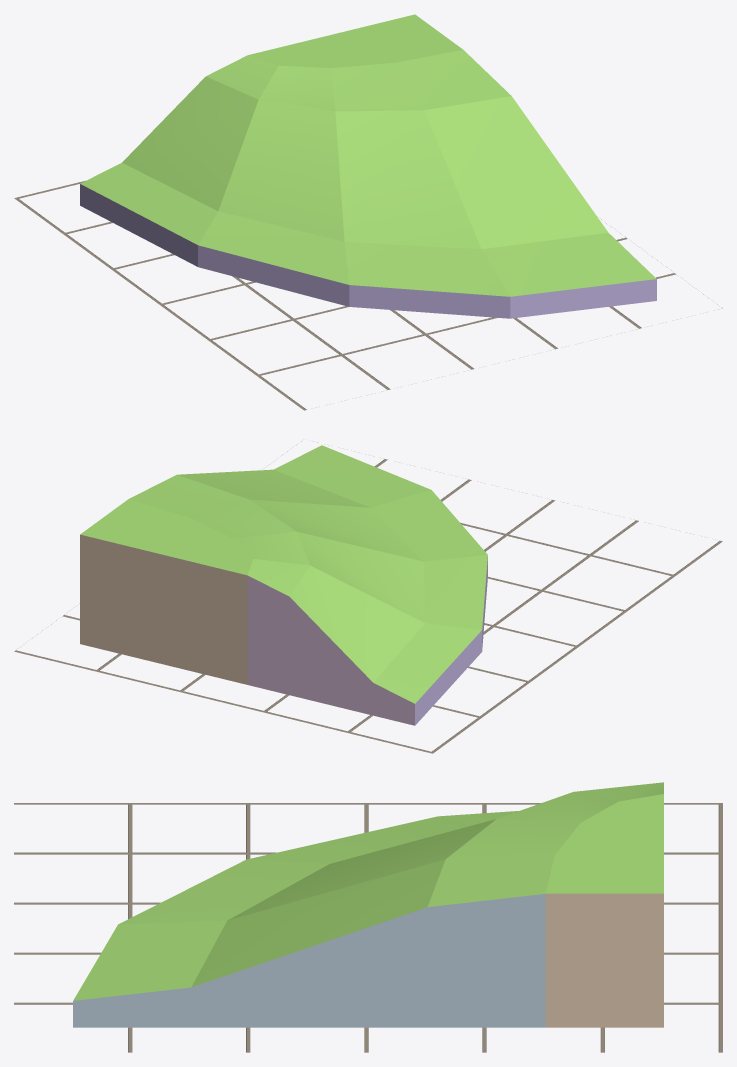
Rendered from Grass_Hill_Grade_Transition_Curve_Outer_4x5.glb.
The picture shows the model from 3 angles, top to bottom: view 1: azimuth 30°, elevation 25°; view 2: azimuth 150°, elevation 25°; view 3: azimuth 270°, elevation 25°; orthographic projection. The views are drawn at different scales.
Parts seen in each view (by area): view 1: Grass_Hill_Grade_Transition_Curve_Outer_4x5, Floor; view 2: Grass_Hill_Grade_Transition_Curve_Outer_4x5, Floor; view 3: Grass_Hill_Grade_Transition_Curve_Outer_4x5, Floor.
Boxes of the visible parts, box(x1,y1,x2,y2) form: Grass_Hill_Grade_Transition_Curve_Outer_4x5: box(80, 14, 656, 318); Floor: box(14, 180, 722, 410); Grass_Hill_Grade_Transition_Curve_Outer_4x5: box(80, 445, 487, 725); Floor: box(14, 441, 722, 753); Grass_Hill_Grade_Transition_Curve_Outer_4x5: box(73, 782, 663, 1027); Floor: box(14, 803, 722, 1052).
Bounding box in the file's own units: 500 × 125 × 600.
Materials: 7 (1 with a texture image).
